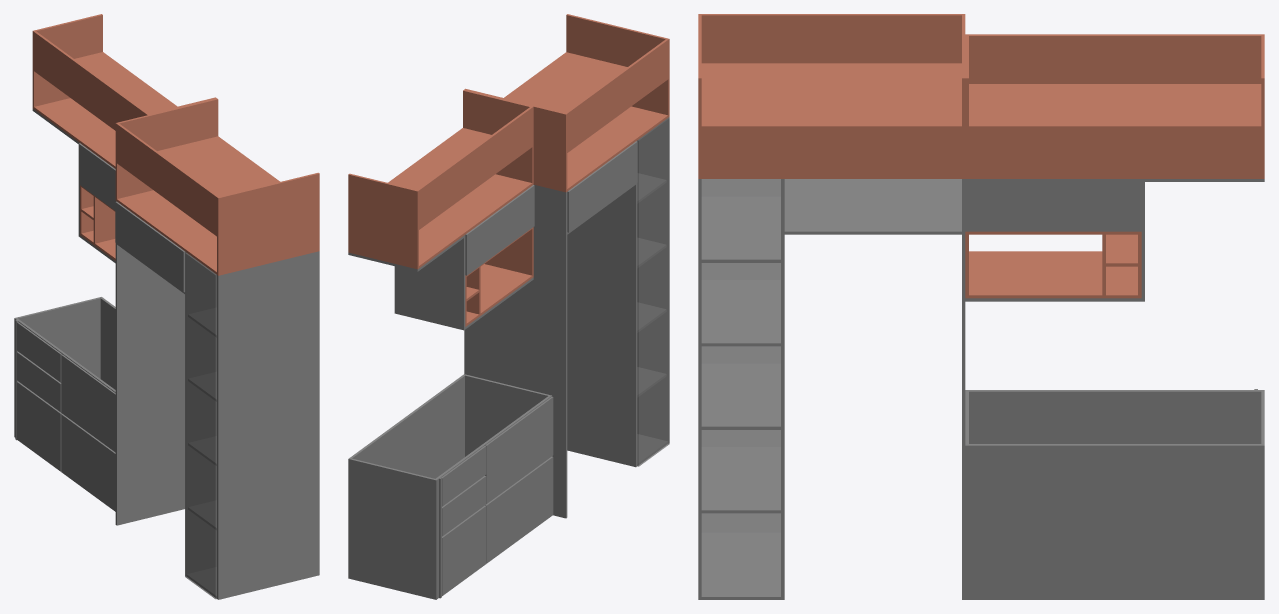
Rendered from shelfToTest.fbx.
3 renders of one model, left to right at view 1: azimuth 30°, elevation 25°; view 2: azimuth 150°, elevation 25°; view 3: azimuth 270°, elevation 25°, orthographic. The views are drawn at different scales.
Parts seen in each view (by area): view 1: Group1, Group2, Group3, Group4; view 2: Group1, Group2, Group3, Group4; view 3: Group2, Group1, Group4, Group3.
Part boxes in pixels (left/top/right/bottom): Group1: left=14, top=109, right=319, bottom=599; Group2: left=32, top=14, right=319, bottom=275; Group3: left=185, top=252, right=216, bottom=599; Group4: left=188, top=308, right=216, bottom=529; Group1: left=348, top=117, right=669, bottom=599; Group2: left=348, top=14, right=669, bottom=326; Group3: left=637, top=118, right=669, bottom=466; Group4: left=637, top=173, right=666, bottom=396; Group2: left=698, top=14, right=1264, bottom=298; Group1: left=698, top=179, right=1264, bottom=599; Group4: left=701, top=196, right=780, bottom=513; Group3: left=701, top=179, right=780, bottom=532.
Bounding box in the file's own units: 67 × 250 × 246.
